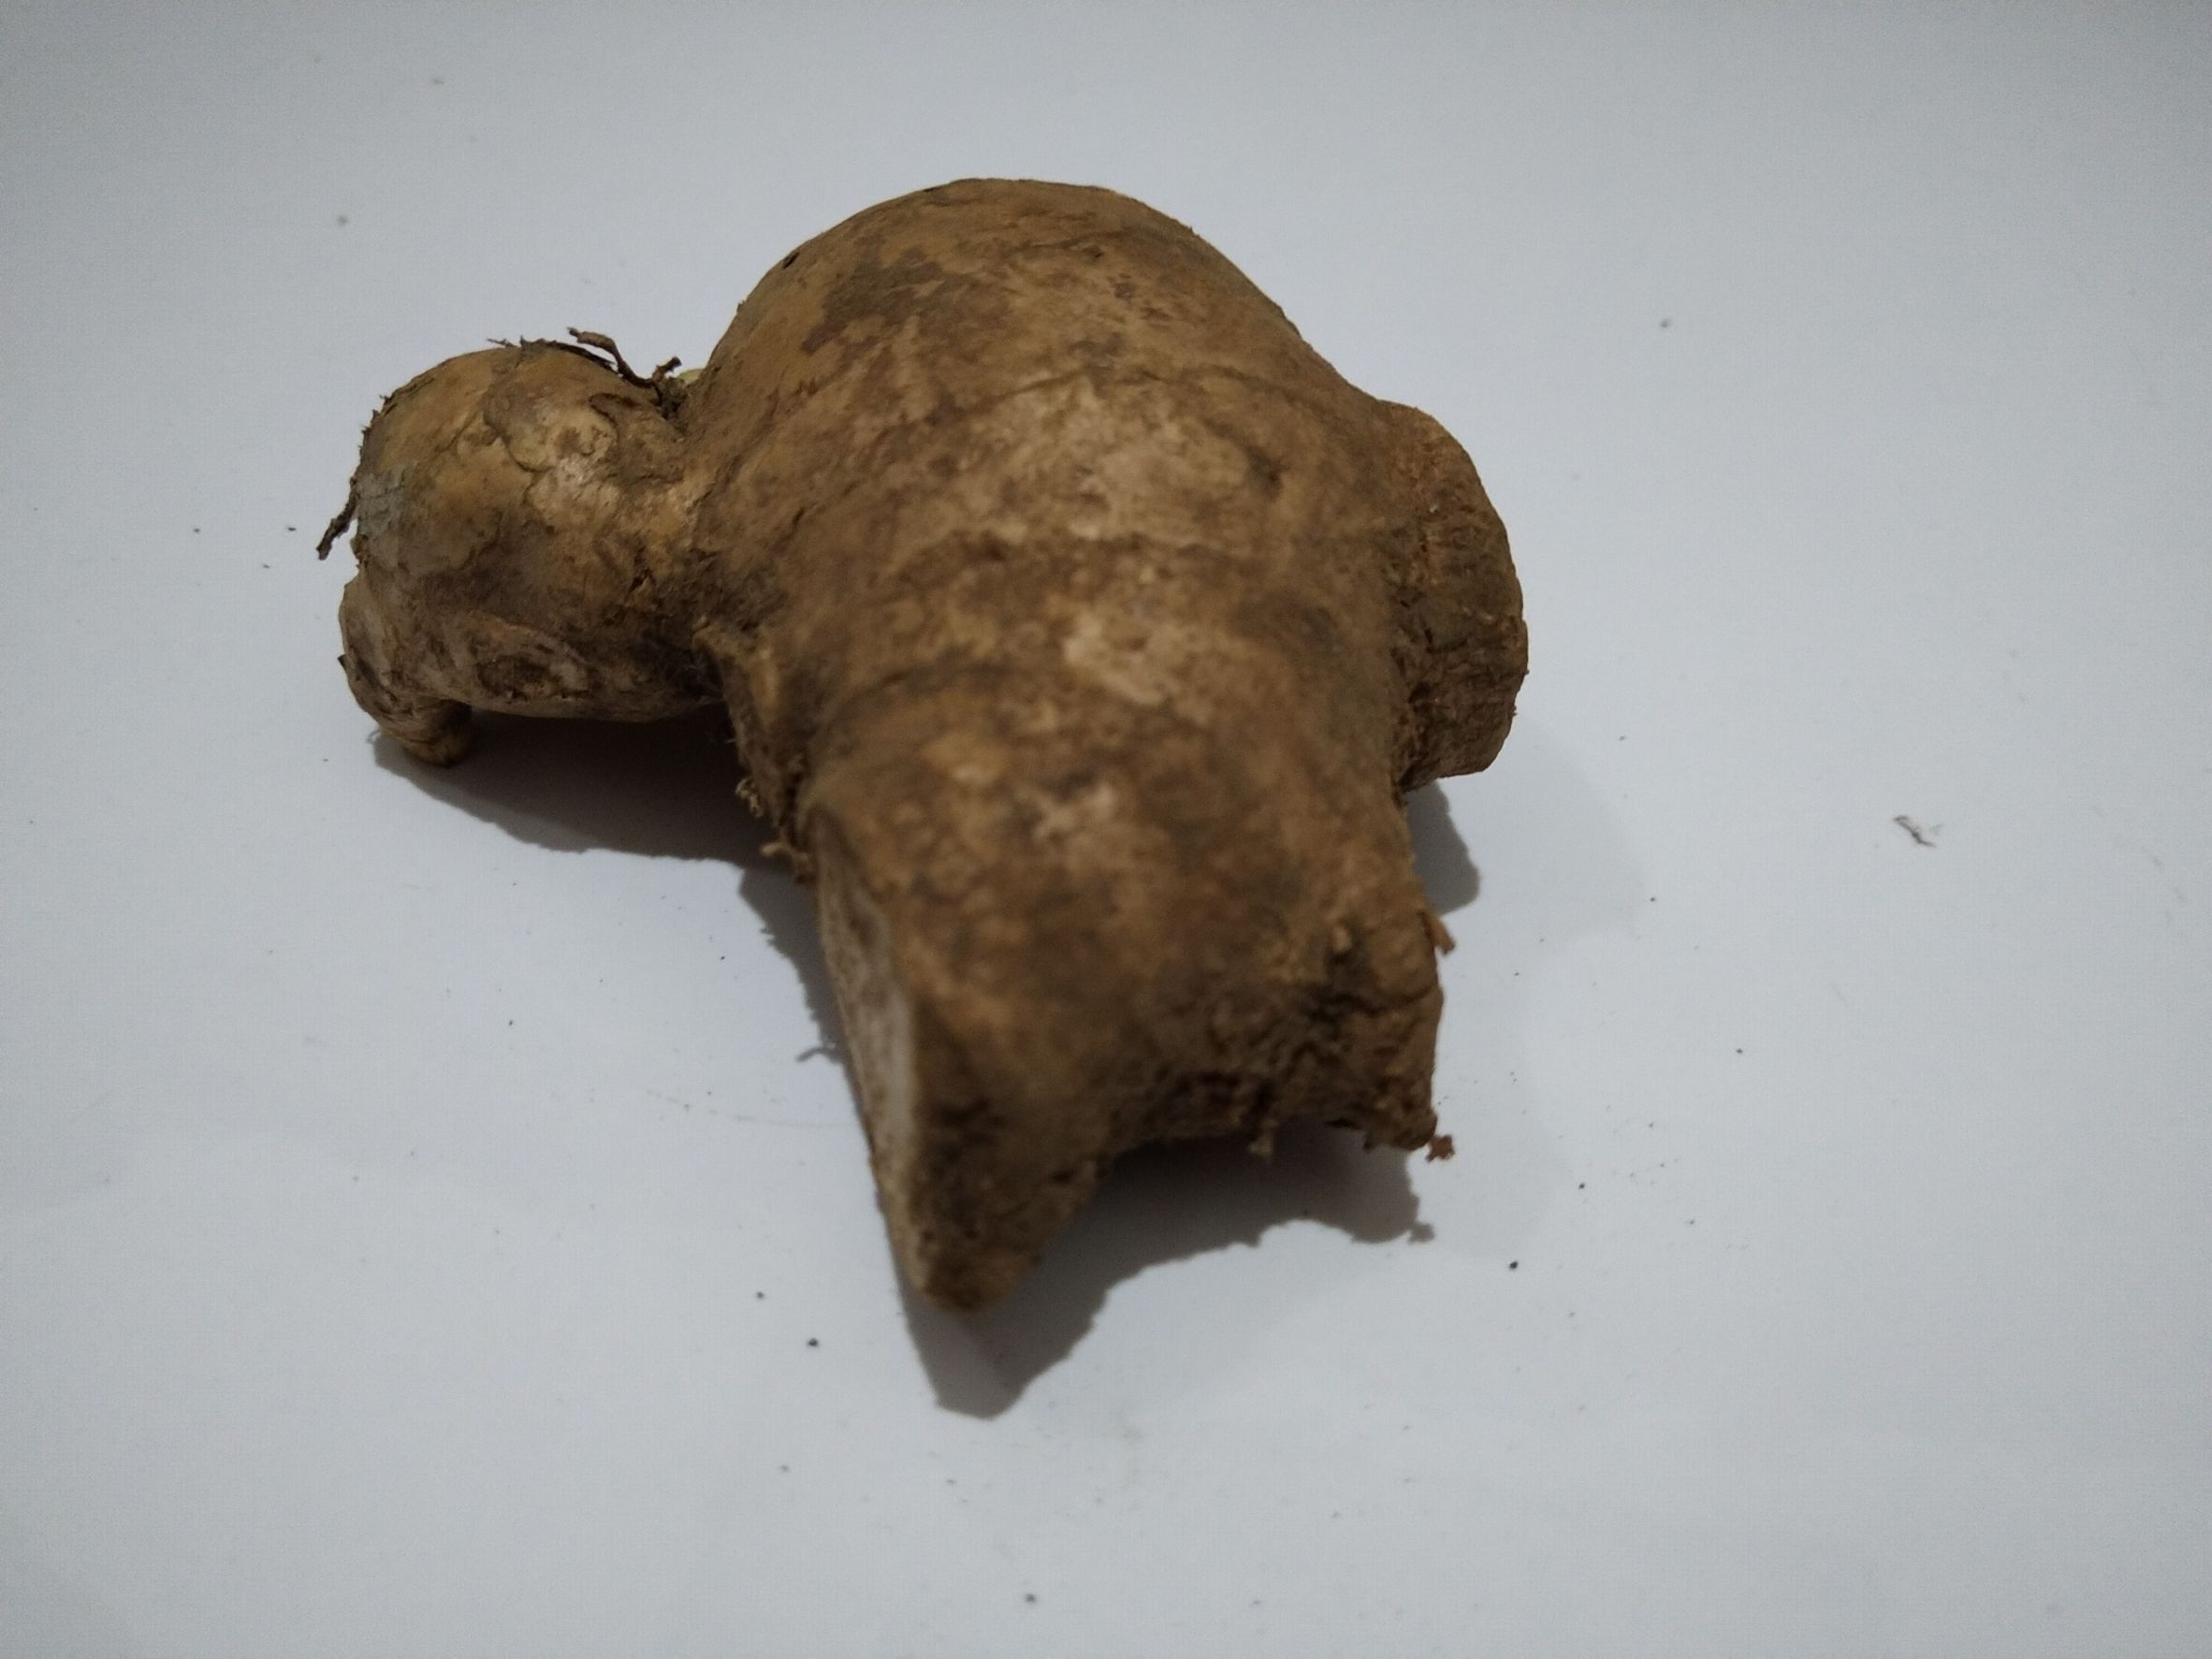Jahe: (326, 166, 1541, 1366)
